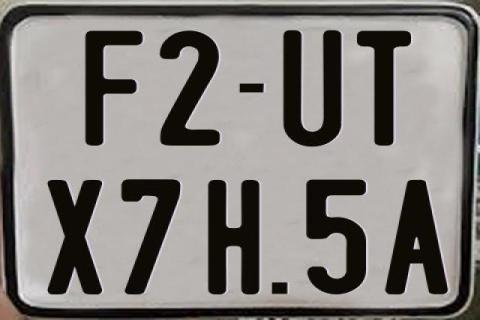0: (306, 177, 372, 296), (118, 179, 178, 296), (158, 31, 218, 147)
A: (386, 180, 454, 294)
F: (82, 30, 142, 146)
H: (208, 180, 264, 295)
T: (357, 29, 412, 145)
U: (280, 28, 344, 145)
X: (45, 178, 103, 294)
